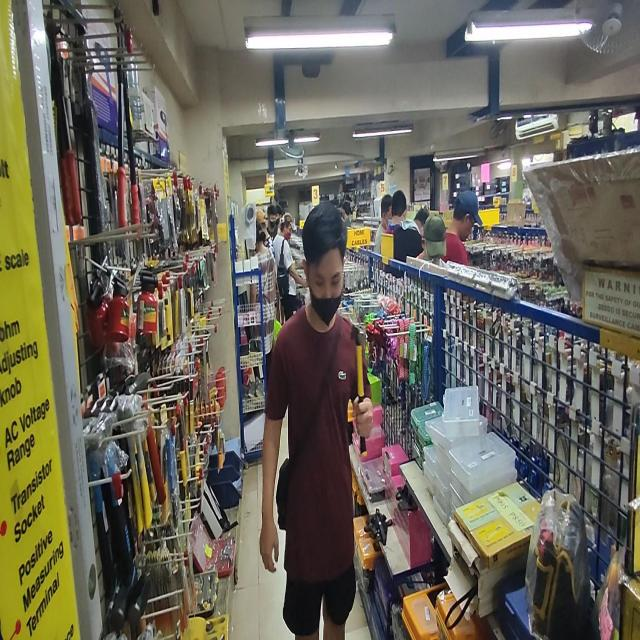hammer: (350, 324, 368, 458)
